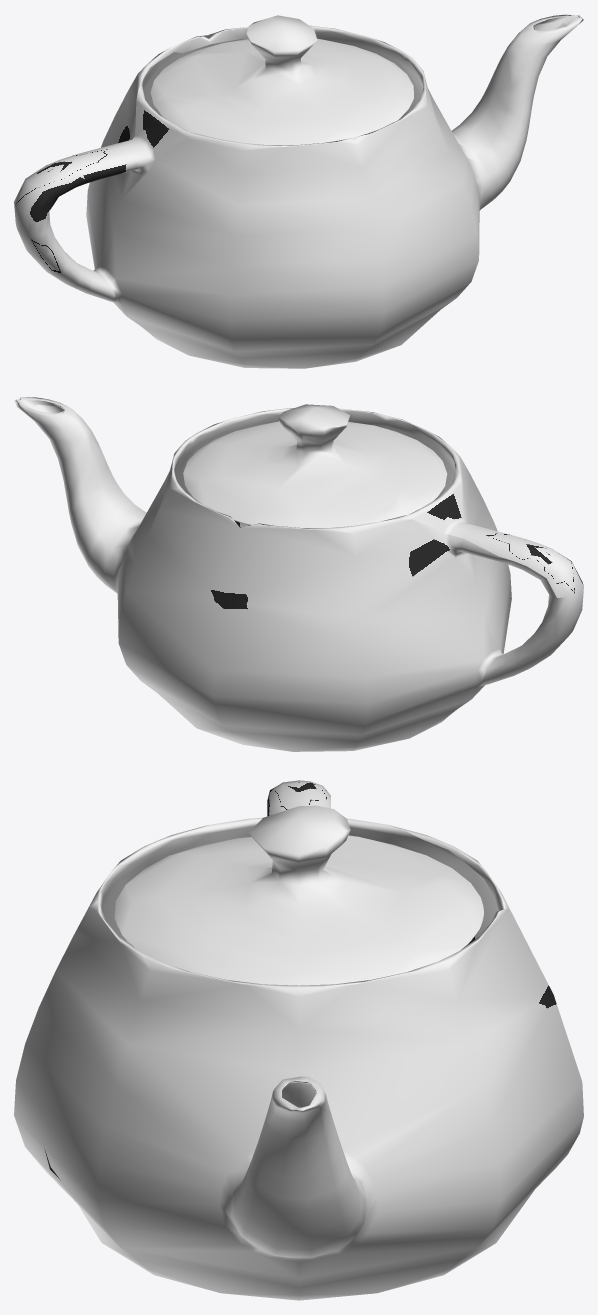
File: teapot_occ_cgal_authalic_result.glb
3 renders of one model, top to bottom at view 1: azimuth 30°, elevation 25°; view 2: azimuth 150°, elevation 25°; view 3: azimuth 270°, elevation 25°, orthographic. The views are drawn at different scales.
Parts seen in each view (by area): view 1: parameterized; view 2: parameterized; view 3: parameterized.
Boxes of the visible parts, left/top/right/bottom form: parameterized: left=14, top=14, right=583, bottom=368; parameterized: left=14, top=397, right=583, bottom=751; parameterized: left=14, top=780, right=583, bottom=1300.
Bounding box in the file's own units: 162 × 80.01 × 101.
Materials: 1 (1 with a texture image).
